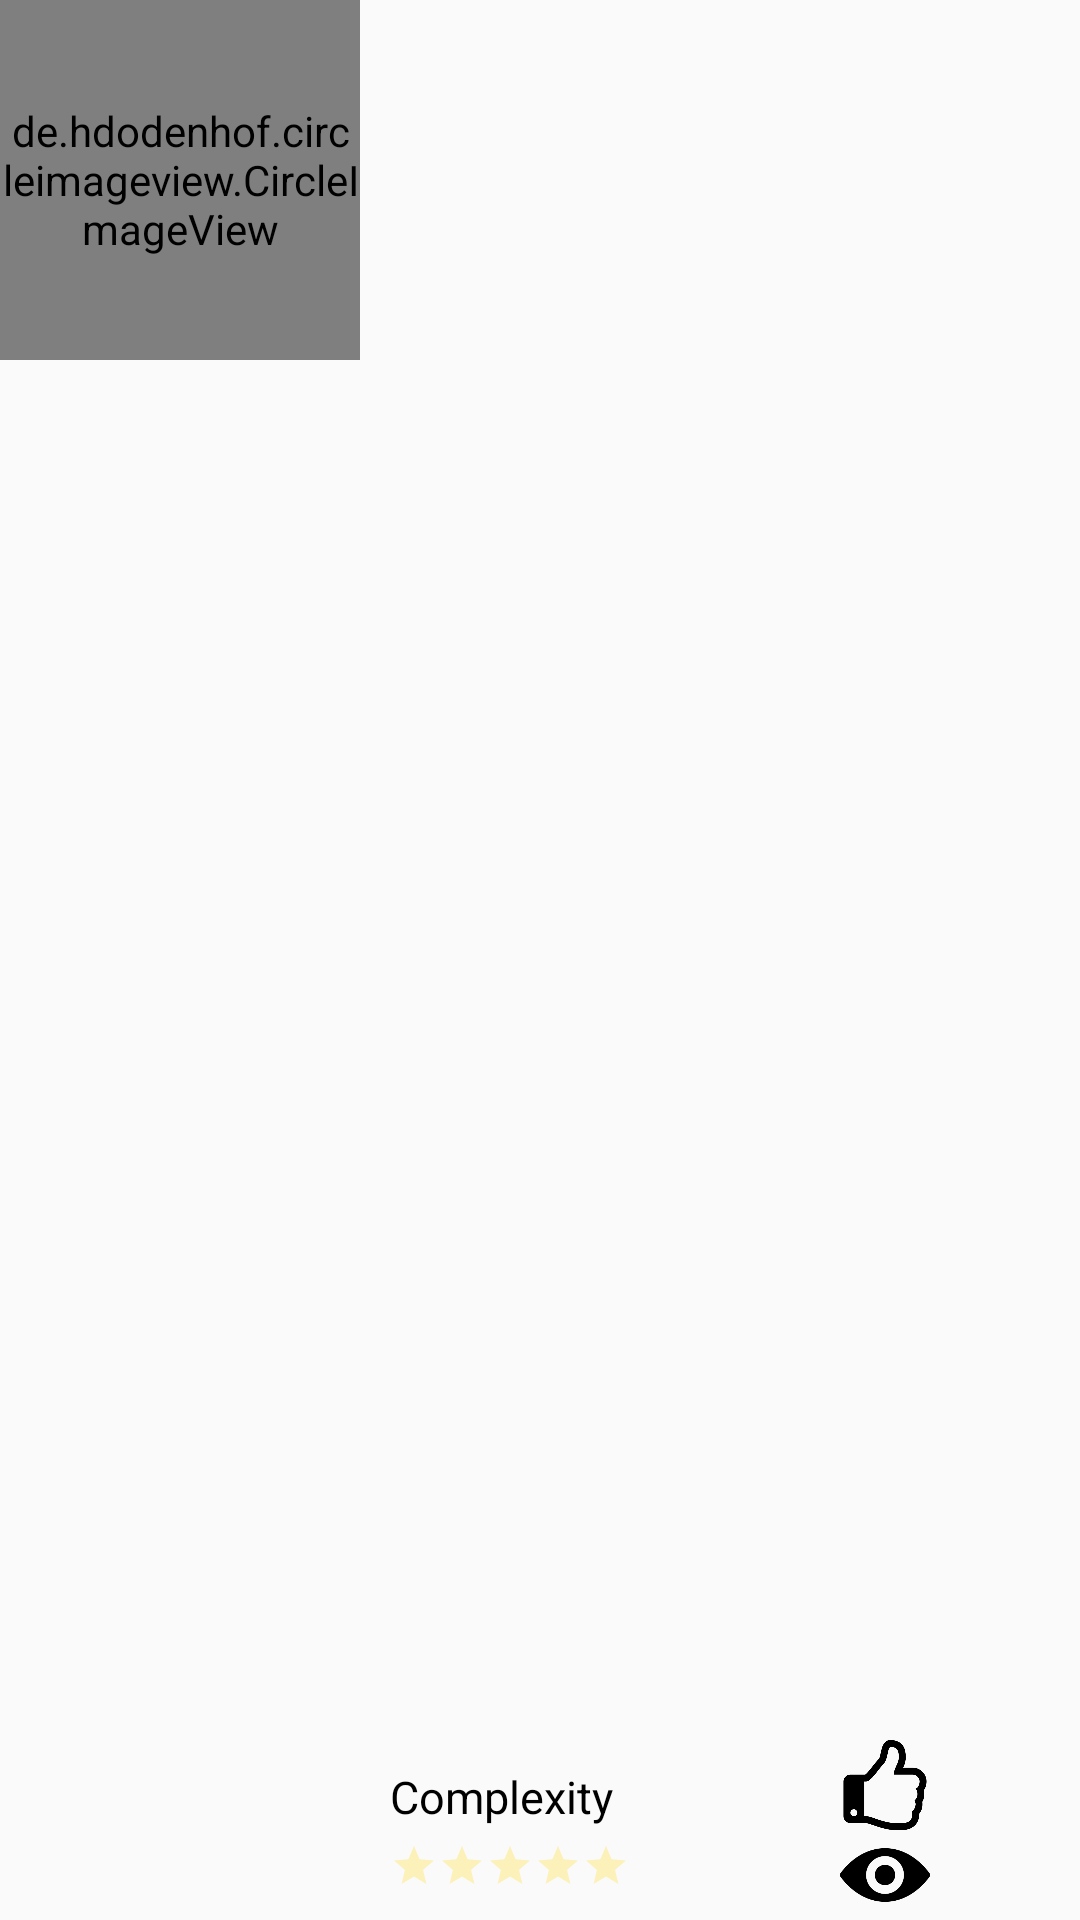

Named icons in this screenshot (1080px×1920px) and their bounding boxes, (x1=x1, y1=y1, x2=x2, y2=y2):
eye: (x1=840, y1=1848, x2=930, y2=1902)
like: (x1=843, y1=1740, x2=927, y2=1830)
